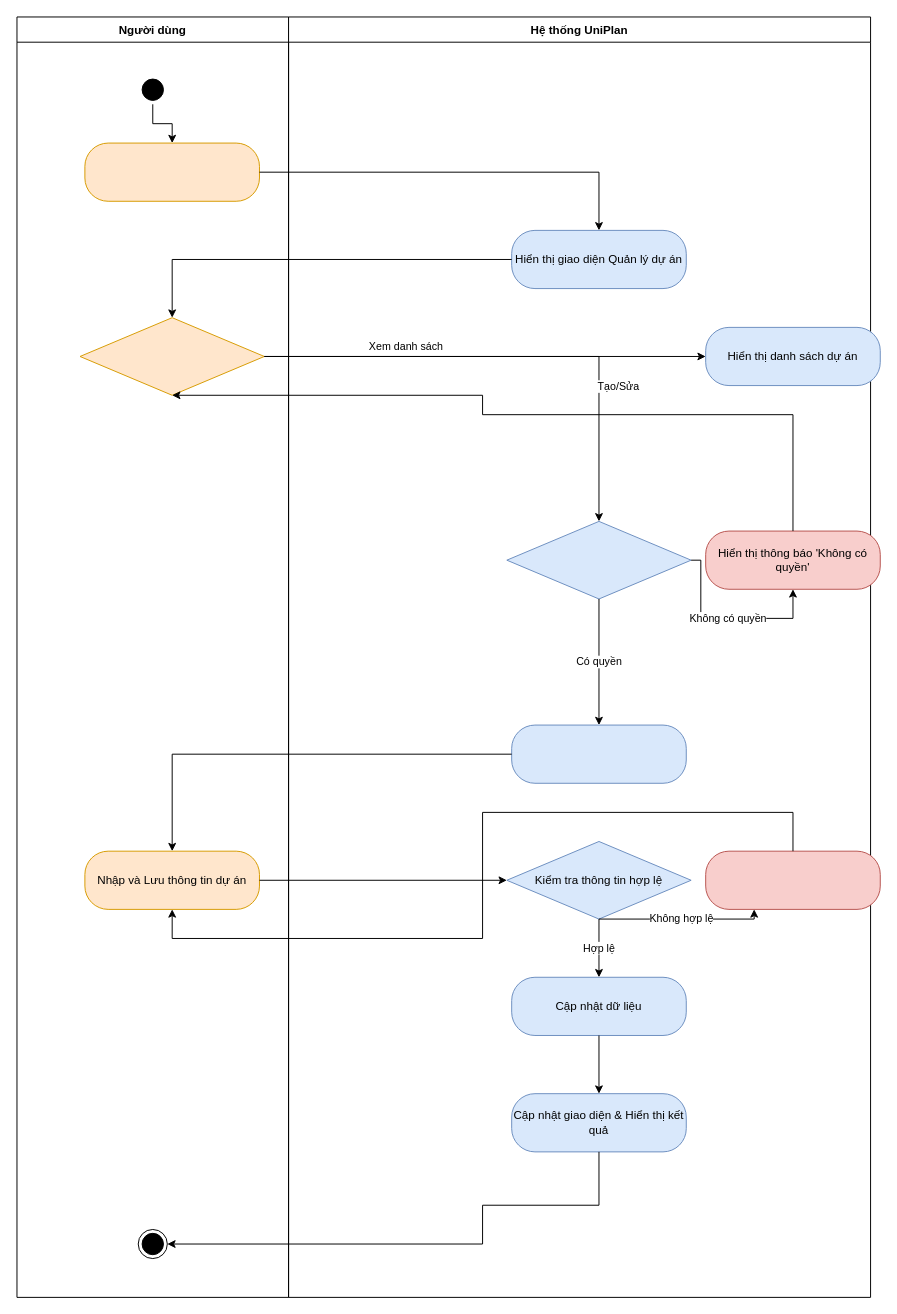
Image size: 897x1314. Some labels were removed from this diagram. The centre of each missing label's shape, as x and y in pixels:
"Chọn thao tác" goes at (x=171, y=356).
"Hiển thị form Tạo/Sửa dự án" goes at (x=598, y=753).
"Hiển thị thông báo lỗi" goes at (x=792, y=879).
"Kiểm tra quyền truy cập" goes at (x=598, y=559).
"Truy cập chức năng Quản lý dự án" goes at (x=171, y=171).
